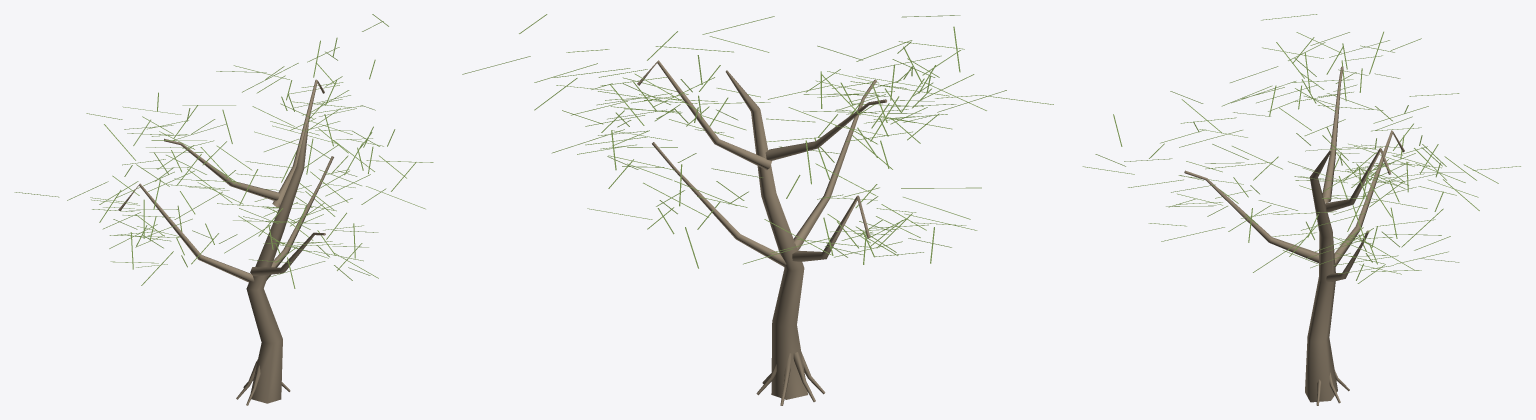
Rendered from small_tree_lod2.glb.
The picture shows the model from 3 angles, left to right: view 1: azimuth 30°, elevation 25°; view 2: azimuth 150°, elevation 25°; view 3: azimuth 270°, elevation 25°; orthographic projection. The views are drawn at different scales.
Visible parts, largest first — view 1: Leaves, Bark; view 2: Bark, Leaves; view 3: Leaves, Bark.
Boxes of the visible parts, box(x1,y1,x2,y2) form: Leaves: box(14, 14, 433, 288); Bark: box(118, 79, 333, 405); Bark: box(637, 60, 886, 405); Leaves: box(462, 14, 1053, 268); Leaves: box(1082, 14, 1520, 283); Bark: box(1184, 66, 1404, 405).
Size of the model in its own units: 9.37 by 7.32 by 9.05.
